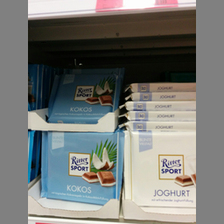chocolate: (39, 131, 121, 206), (124, 131, 195, 210), (47, 71, 117, 125)
